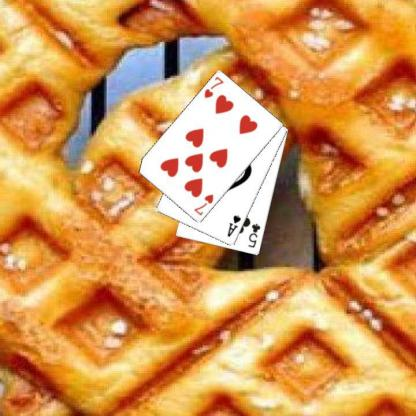5C: (245, 221, 262, 249)
7H: (191, 192, 215, 217), (201, 74, 224, 99)
AS: (225, 213, 242, 238)
